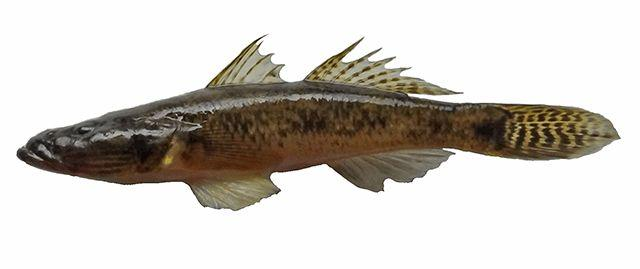Goby: (17, 32, 620, 214)
